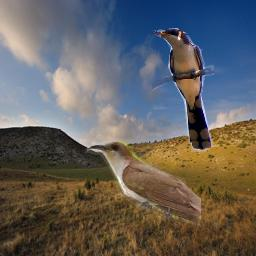Cuckoo: (85, 141, 201, 226), (152, 28, 214, 152)
